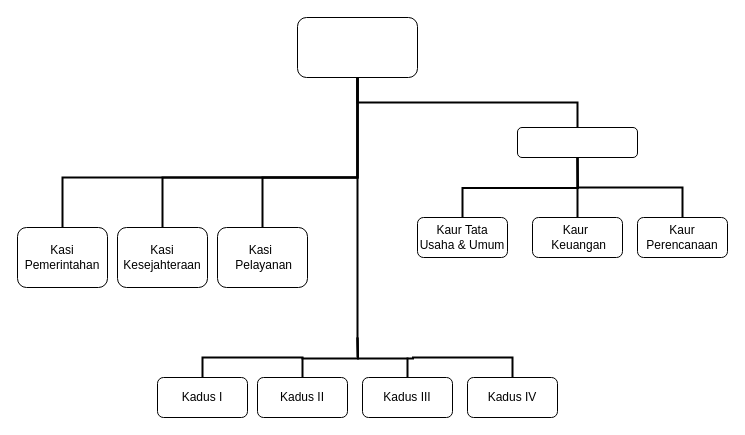
This 745x435 diagram has some shape labels left out. The centre of each missing label's shape, as x and y in pixels:
Kepala Desa: [357,47]
Sekretaris: [577,142]
